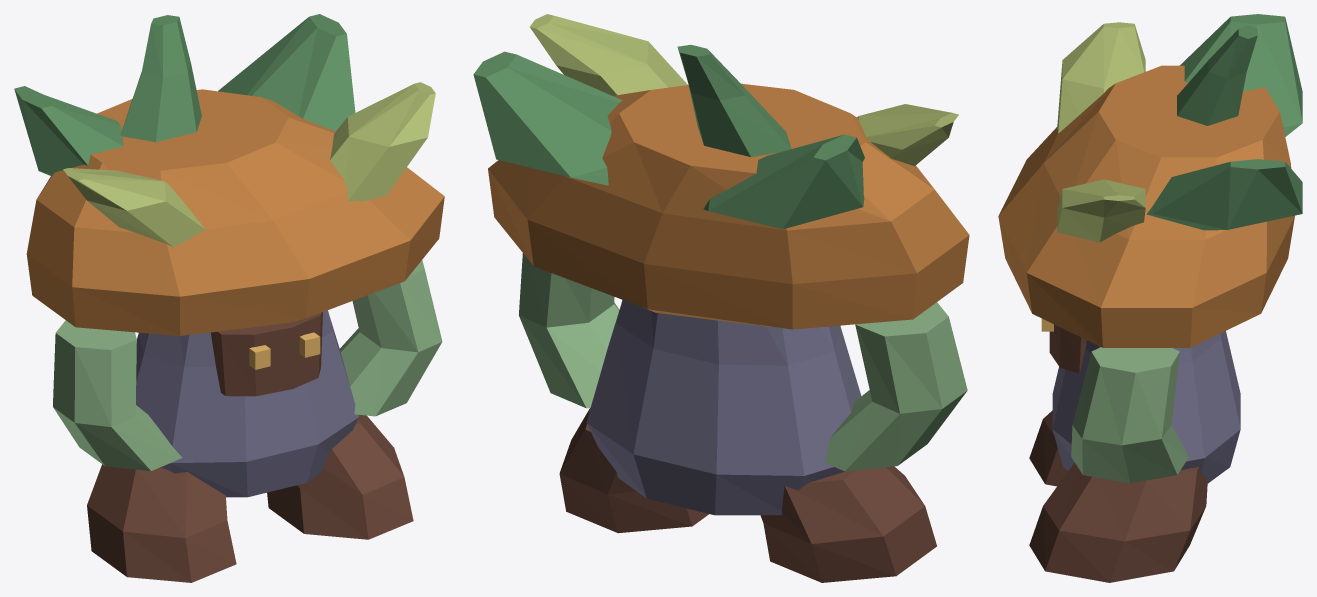
The model's file is canopy-fungus-model.obj.
3 views of the same model, side by side, from view 1: azimuth 30°, elevation 25°; view 2: azimuth 150°, elevation 25°; view 3: azimuth 270°, elevation 25° (orthographic). The views are drawn at different scales.
Visible parts, largest first — view 1: CanopyFungus; view 2: CanopyFungus; view 3: CanopyFungus.
Part boxes in pixels (x1,y1,x2,y2): CanopyFungus: (14, 14, 444, 582); CanopyFungus: (473, 14, 969, 582); CanopyFungus: (998, 14, 1302, 582).
Bounding box in the file's own units: 3.17 × 3.75 × 2.22.
